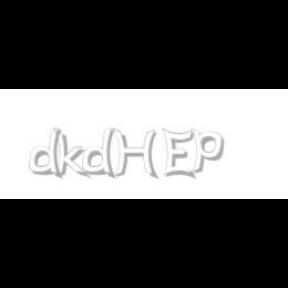E: (162, 128, 194, 180)
H: (112, 128, 158, 180)
d: (82, 128, 119, 180), (30, 128, 66, 180)
k: (53, 128, 91, 180)
p: (190, 128, 228, 174)
